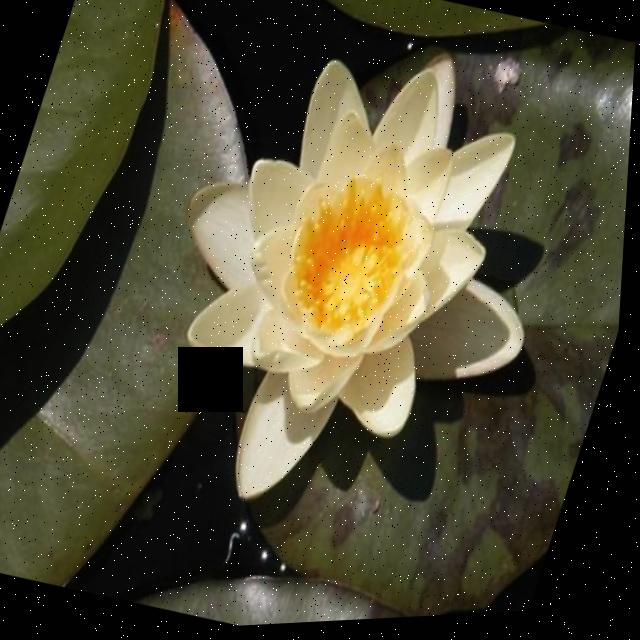water-lily: (0, 0, 626, 605)
